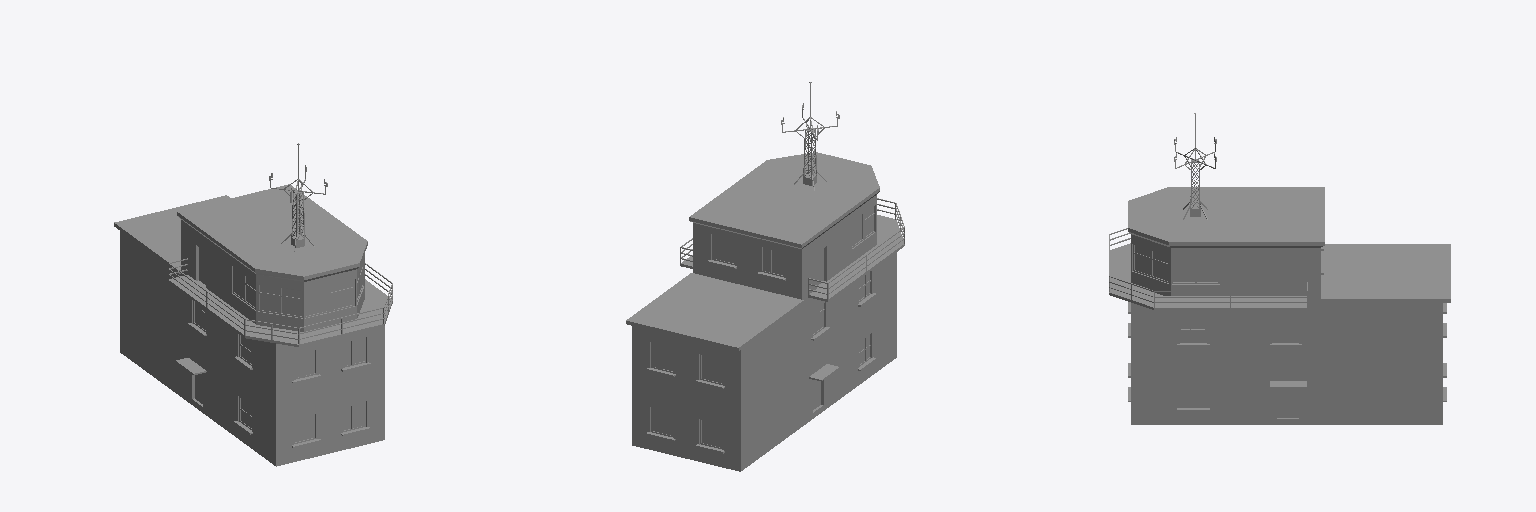
File: tower.obj
3 renders of one model, left to right at view 1: azimuth 30°, elevation 25°; view 2: azimuth 150°, elevation 25°; view 3: azimuth 270°, elevation 25°, orthographic.
Visible parts, largest first — view 1: tower_Plane; view 2: tower_Plane; view 3: tower_Plane.
Part boxes in pixels (bbox=[...]): tower_Plane: bbox=[114, 143, 392, 466]; tower_Plane: bbox=[626, 82, 904, 471]; tower_Plane: bbox=[1109, 113, 1450, 424].
Size of the model in its own units: 8.43 by 15.55 by 16.88.